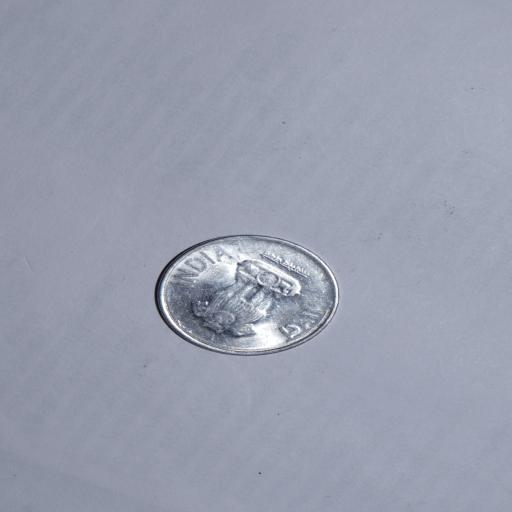rupee2: (146, 232, 345, 361)
